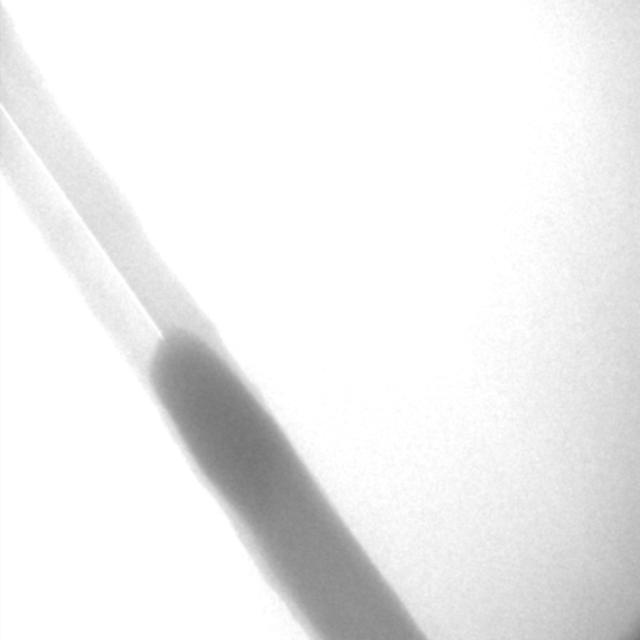broken arc: (1, 103, 166, 342)
